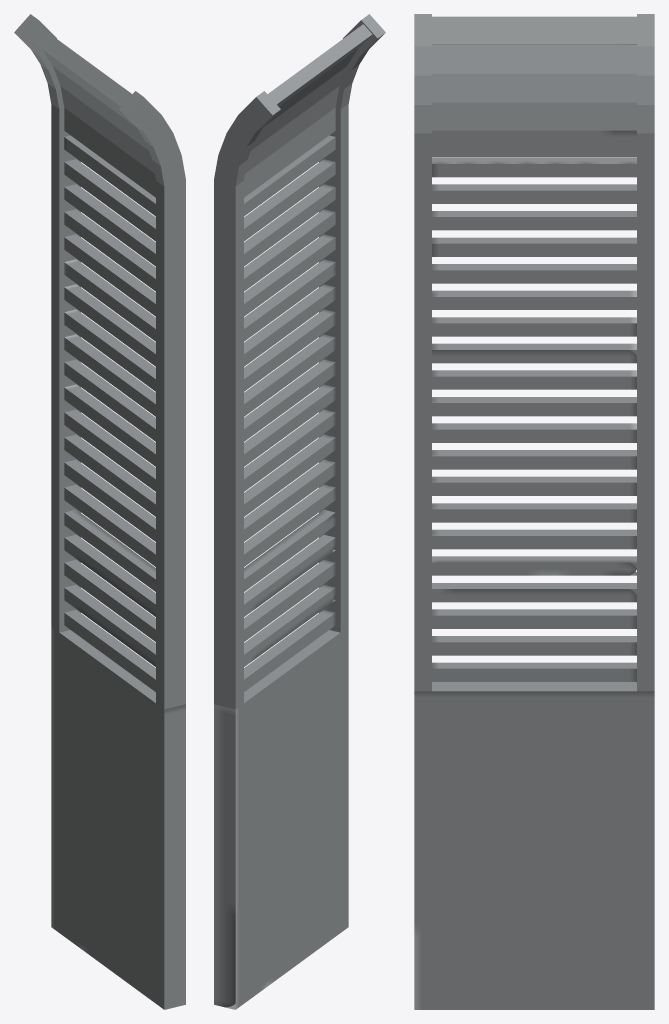
Rendered from highrails.obj.
3 renders of one model, left to right at view 1: azimuth 30°, elevation 25°; view 2: azimuth 150°, elevation 25°; view 3: azimuth 270°, elevation 25°, orthographic. The views are drawn at different scales.
Visible parts, largest first — view 1: cuboid; view 2: cuboid; view 3: cuboid.
Part boxes in pixels (x1,y1,x2,y2): cuboid: [14, 14, 185, 1009]; cuboid: [214, 14, 385, 1009]; cuboid: [414, 14, 654, 1009].
Bounding box in the file's own units: 0.3066 × 4.58 × 1.02.
Materials: 1 (1 with a texture image).
